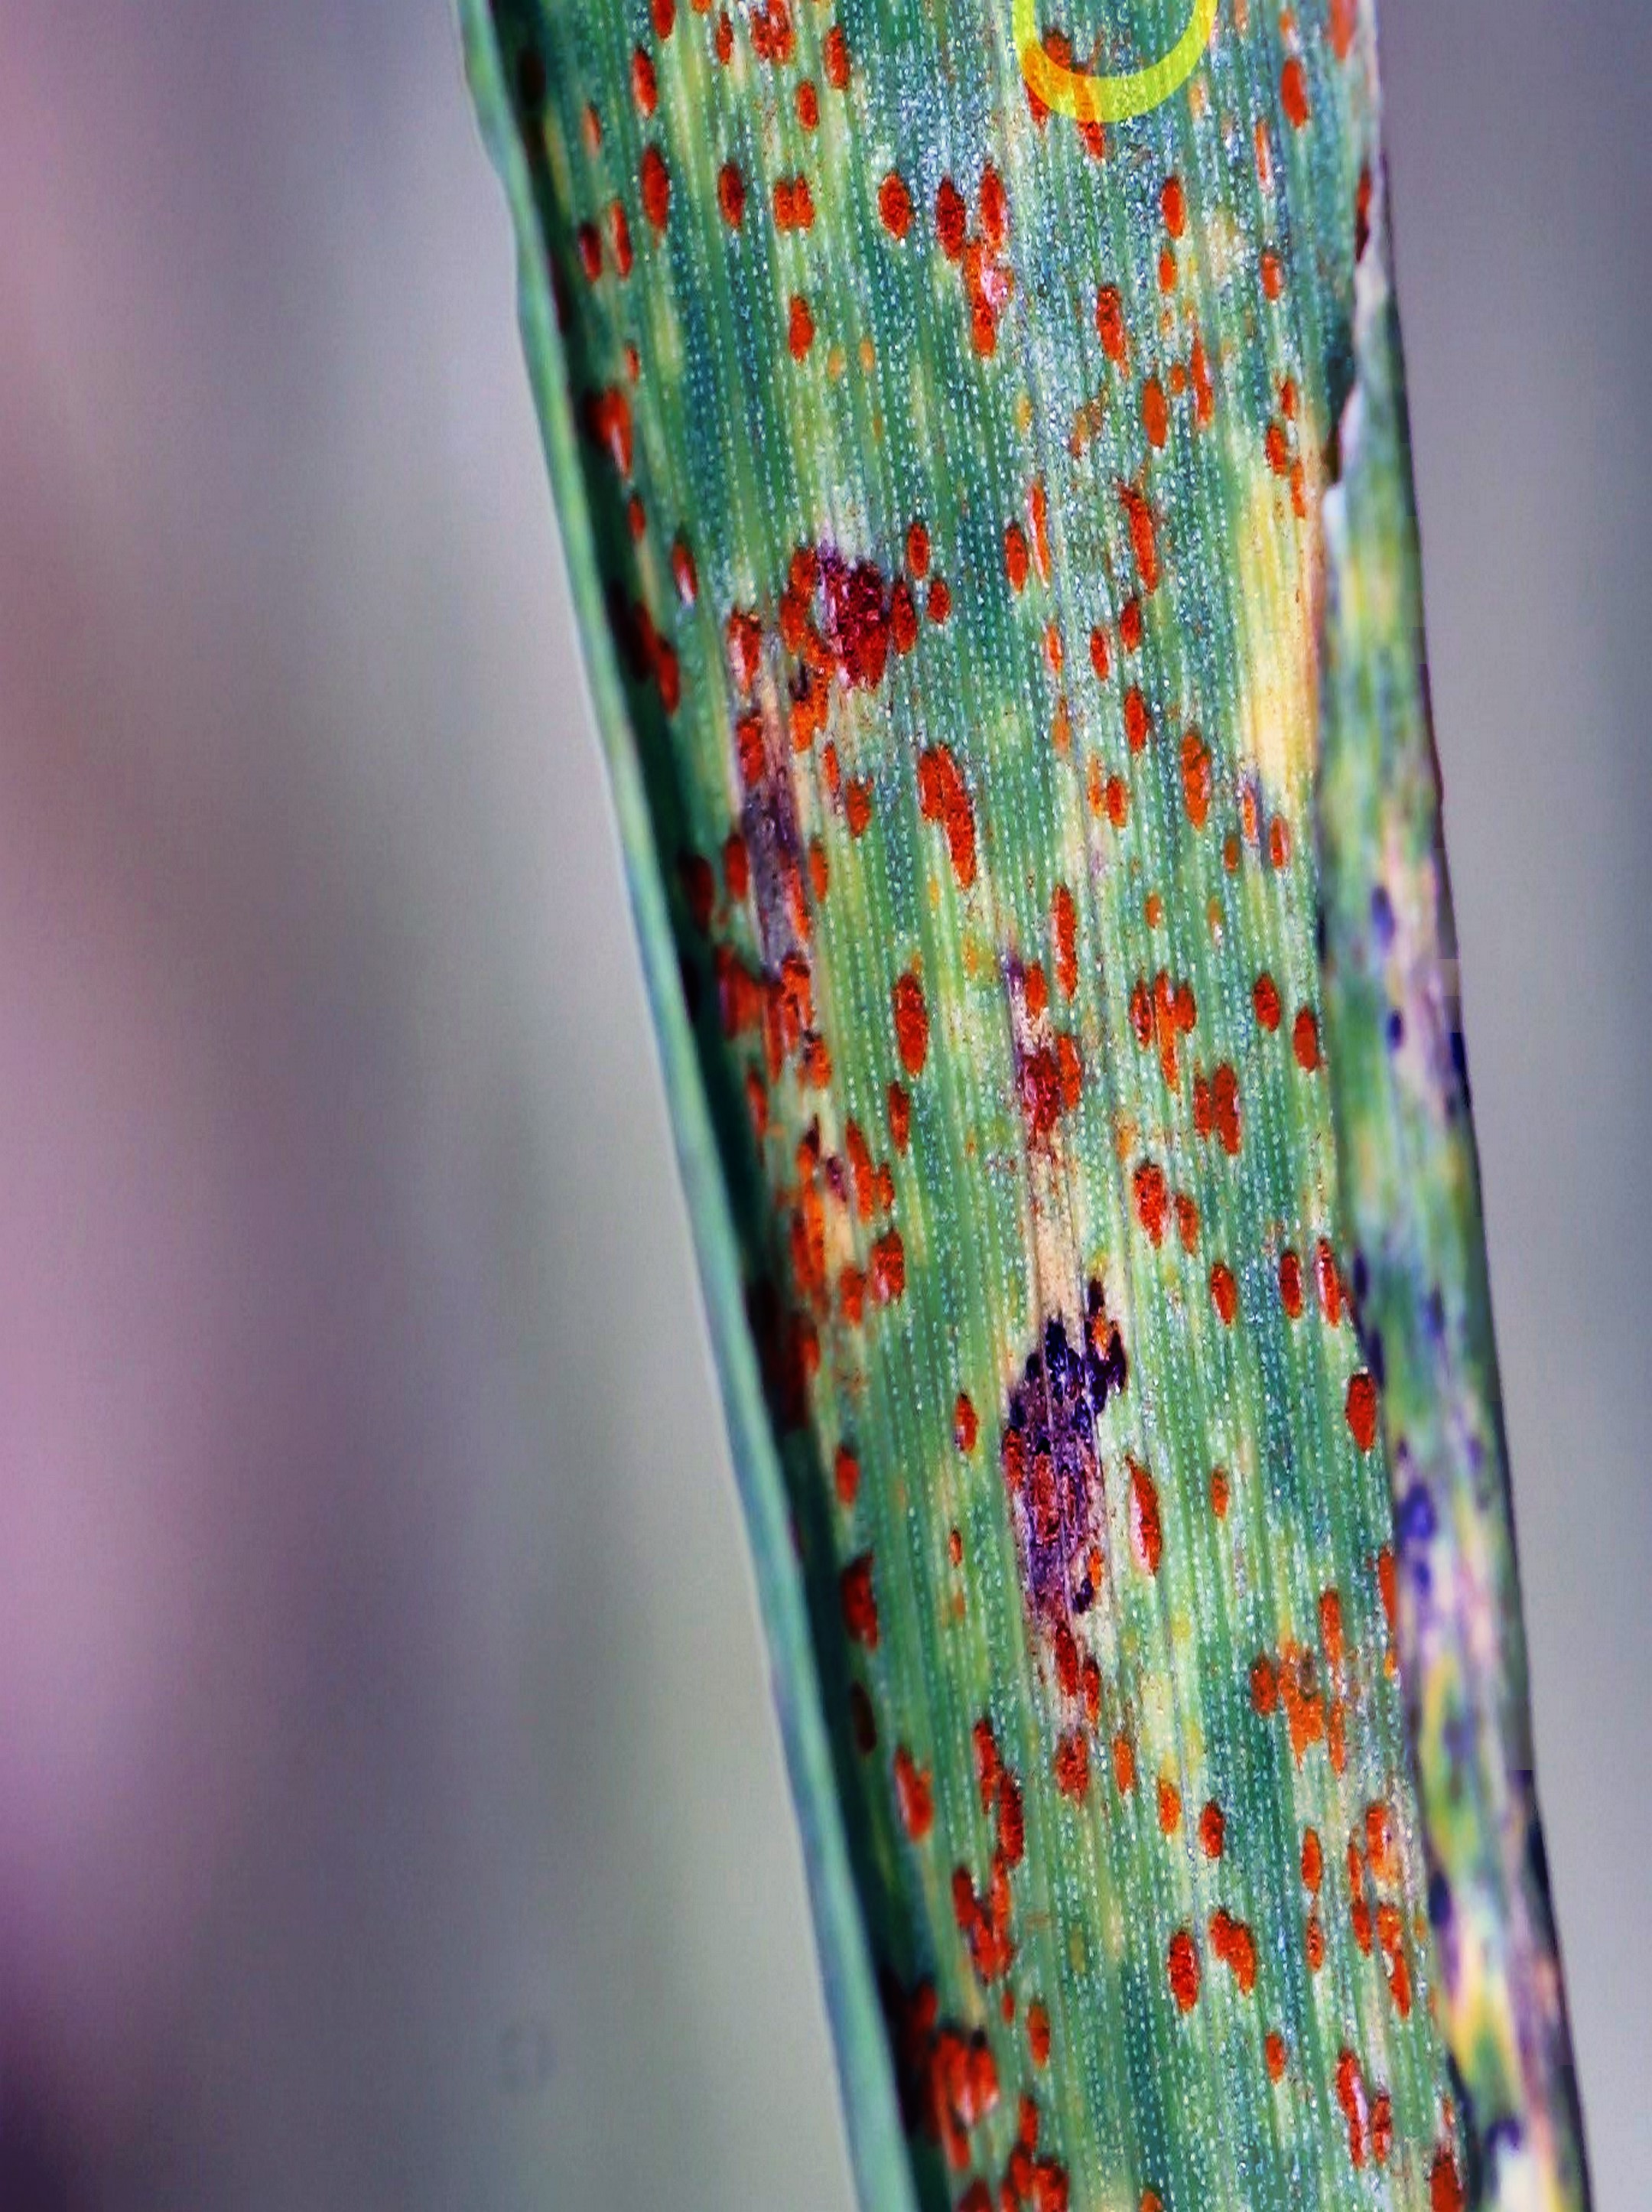Leaf Rust: (562, 147, 1603, 2063)
